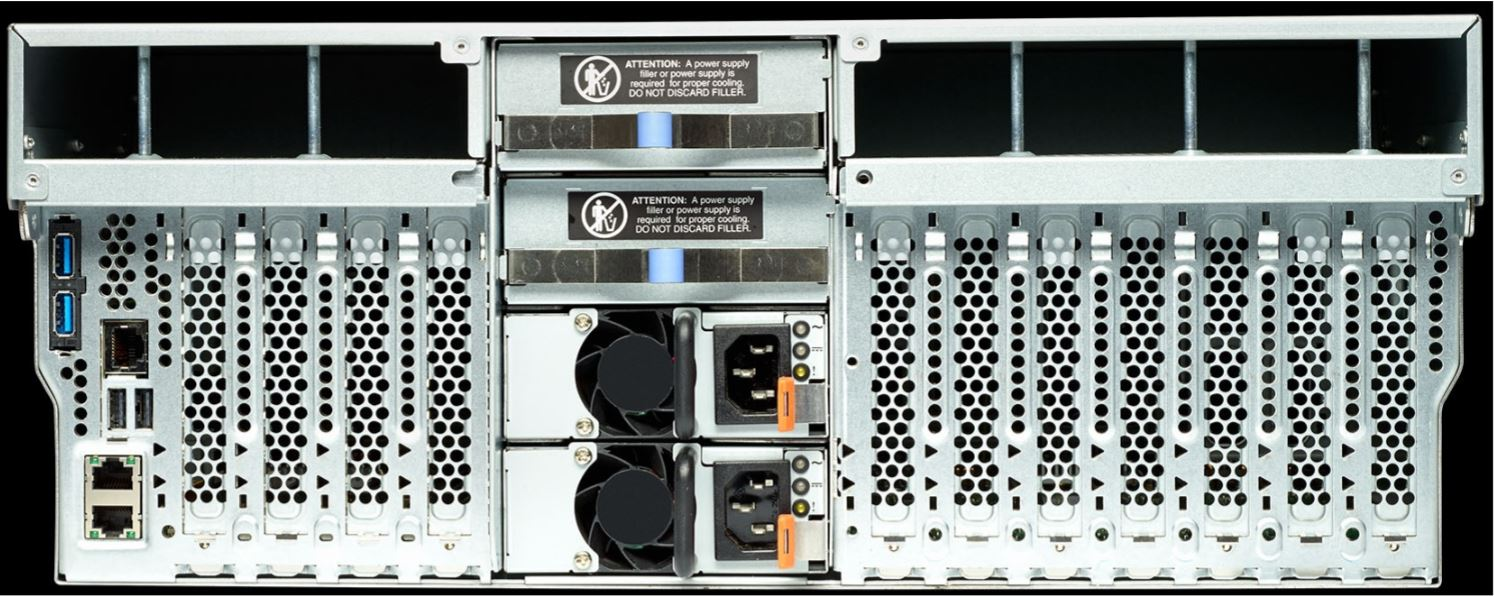ibm-server: (4, 14, 1476, 584)
